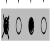correct: (28, 16, 34, 37)
no answer: (15, 14, 22, 37)
not correct: (2, 11, 10, 41)
